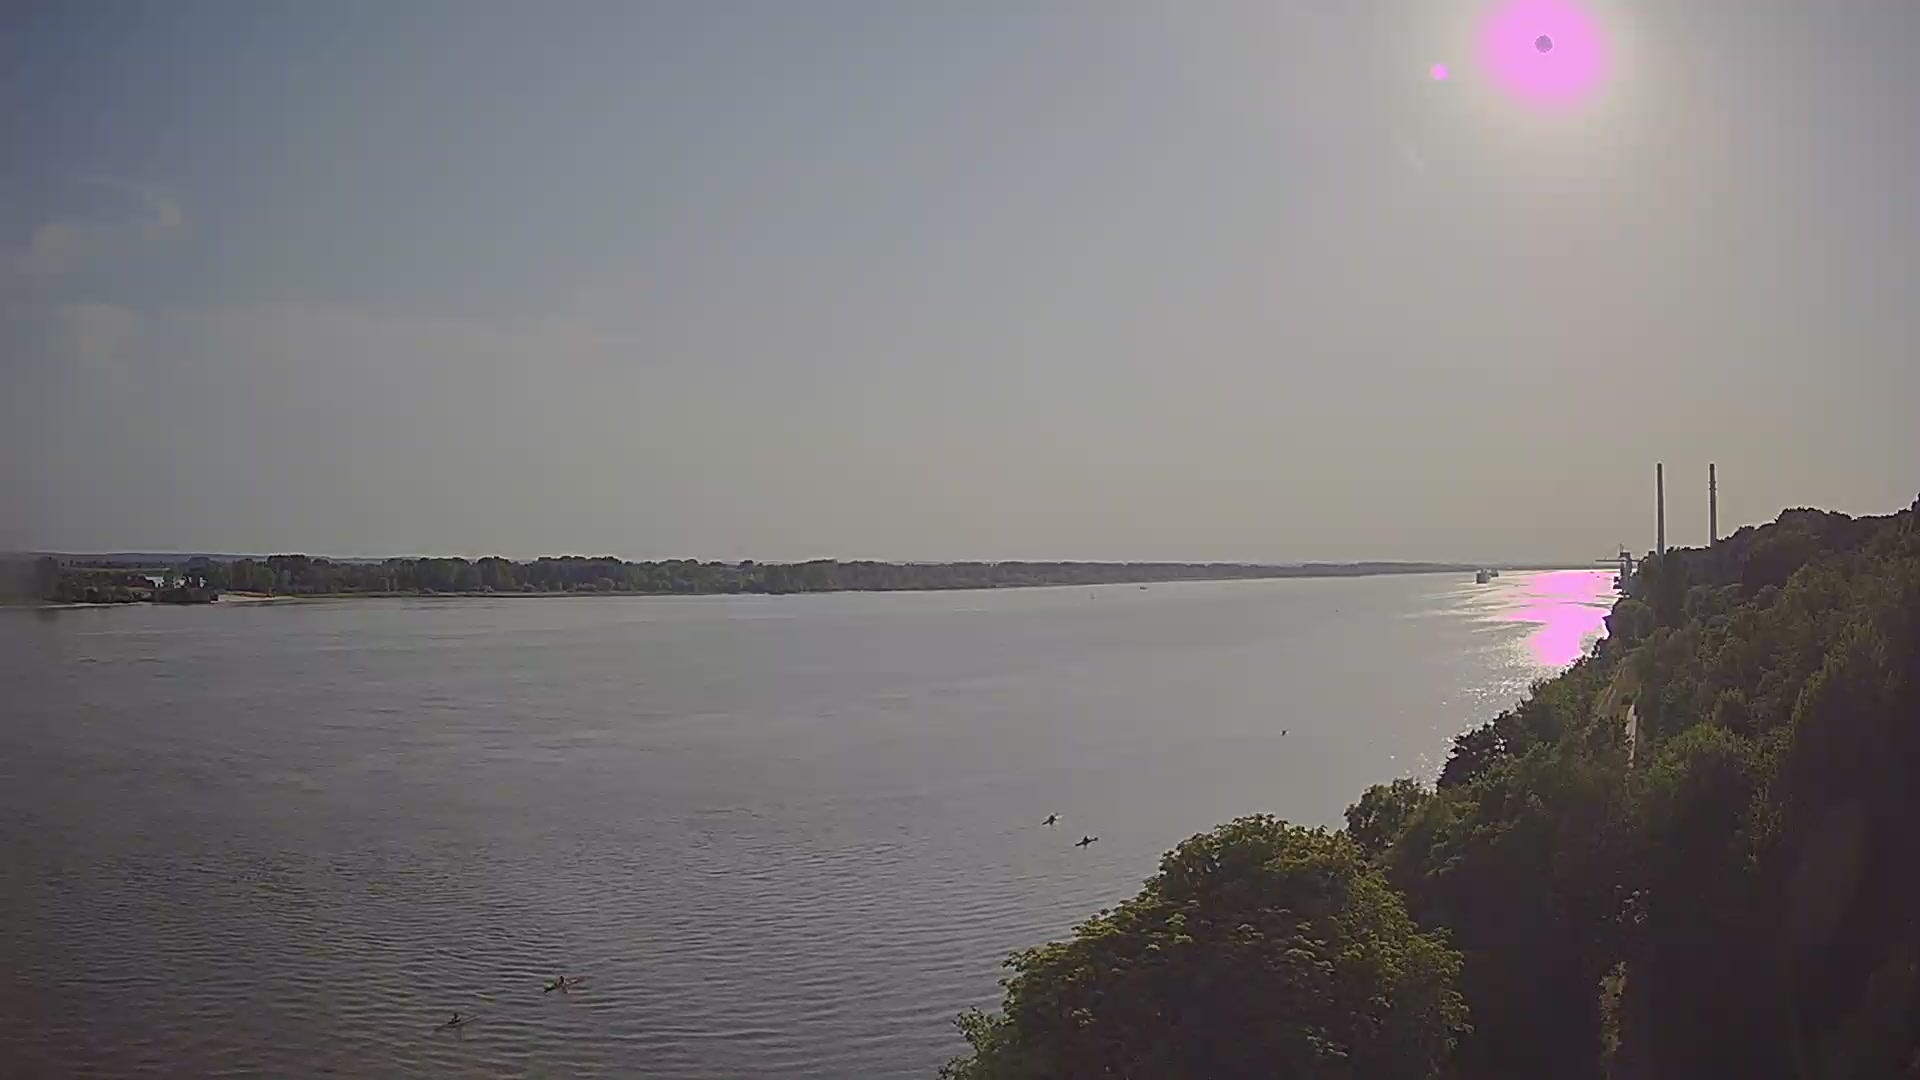human: (447, 1012, 462, 1025), (555, 974, 567, 987), (1082, 835, 1090, 842), (1048, 813, 1056, 822)
sea: (432, 1009, 479, 1029), (540, 973, 582, 993), (1073, 834, 1097, 846), (1040, 812, 1064, 825), (1475, 568, 1490, 584), (1484, 566, 1499, 578), (1139, 585, 1148, 590)
